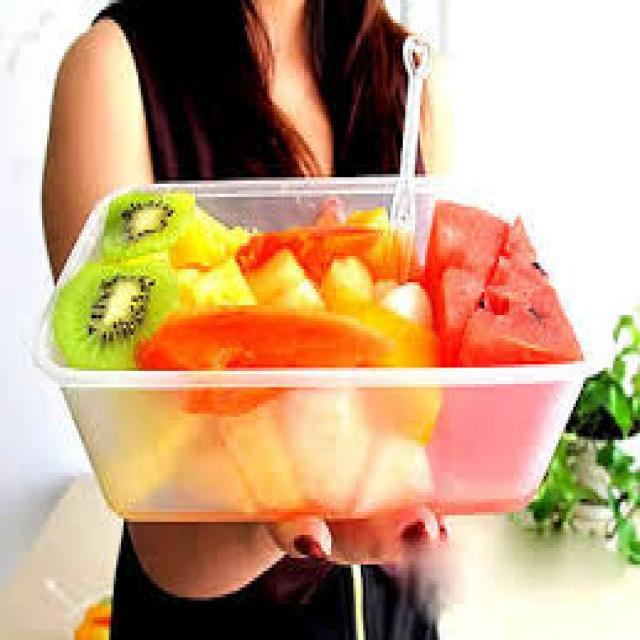organic waste: (136, 308, 388, 414), (314, 276, 440, 430), (457, 207, 578, 361), (52, 260, 185, 364), (425, 197, 504, 364), (235, 217, 393, 276), (101, 190, 193, 253), (245, 246, 321, 309), (168, 203, 255, 256), (373, 272, 435, 332), (188, 256, 257, 309), (316, 249, 373, 312), (336, 200, 388, 223)
